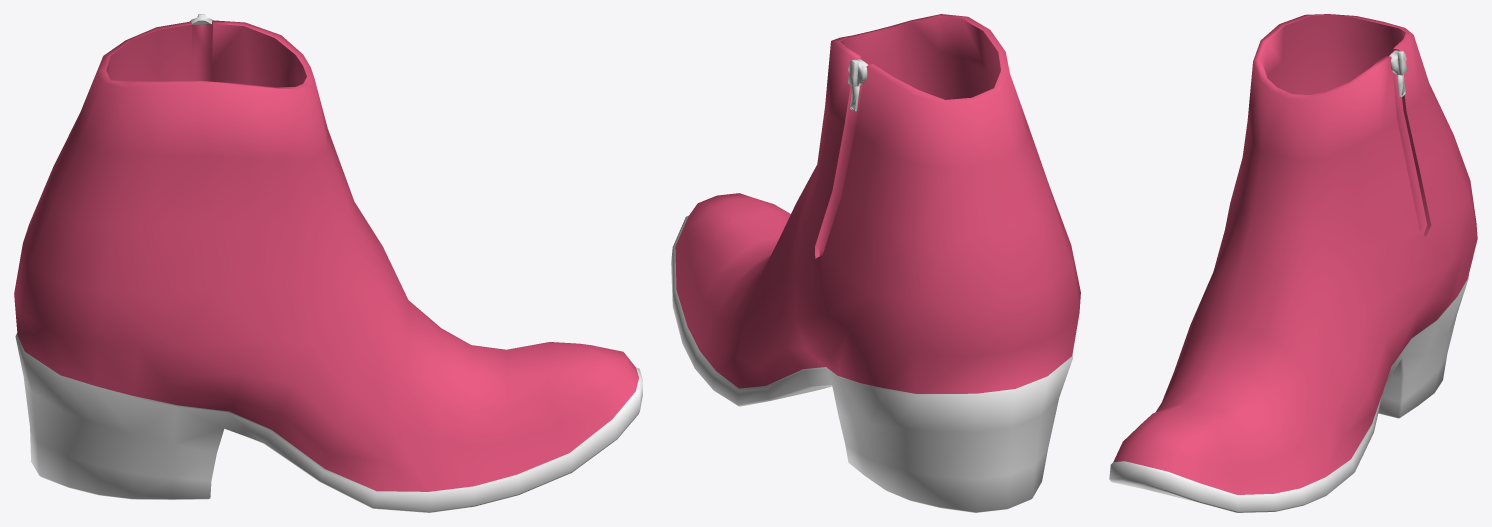
Rendered from Boot.fbx.
The picture shows the model from 3 angles, left to right: view 1: azimuth 30°, elevation 25°; view 2: azimuth 150°, elevation 25°; view 3: azimuth 270°, elevation 25°; orthographic projection. The views are drawn at different scales.
Parts seen in each view (by area): view 1: Boot; view 2: Boot; view 3: Boot.
Part boxes in pixels (x1,y1,x2,y2): Boot: [14, 14, 642, 512]; Boot: [671, 14, 1080, 512]; Boot: [1109, 14, 1477, 512].
Size of the model in its own units: 64.74 by 51.47 by 47.16.
